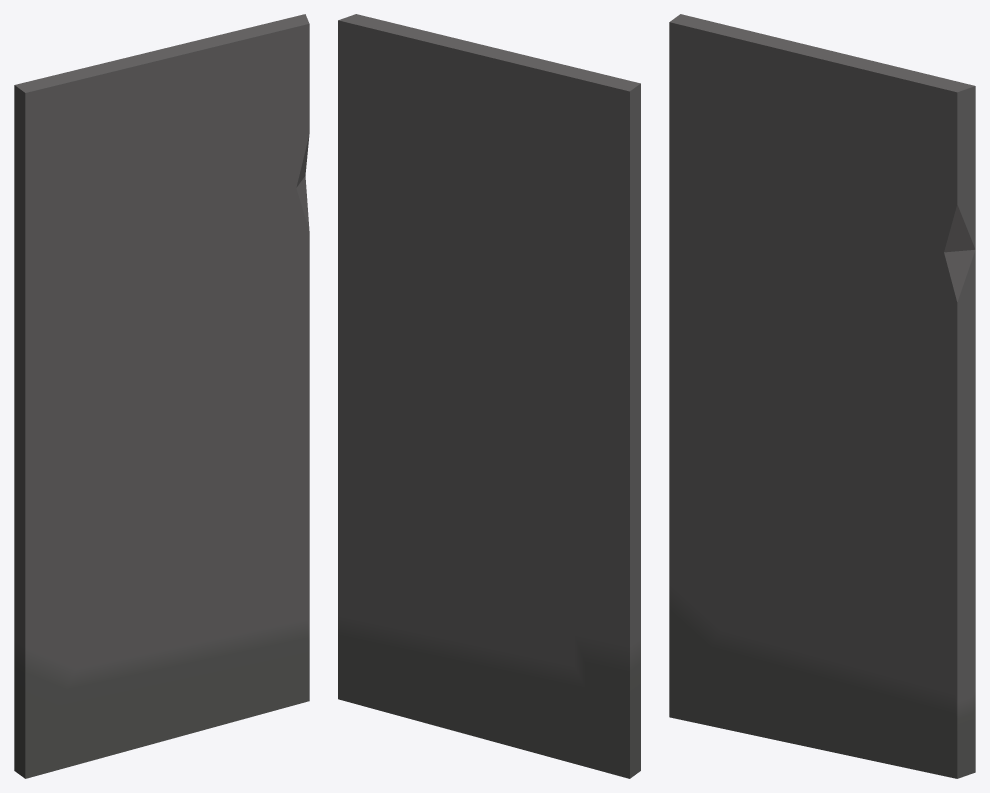
The model's file is SM_Prop_Cabinet_Small_Door_01.fbx.
The picture shows the model from 3 angles, left to right: view 1: azimuth 30°, elevation 25°; view 2: azimuth 150°, elevation 25°; view 3: azimuth 330°, elevation 25°; orthographic projection.
Parts seen in each view (by area): view 1: SM_Prop_Cabinet_Small_Door_01; view 2: SM_Prop_Cabinet_Small_Door_01; view 3: SM_Prop_Cabinet_Small_Door_01.
Boxes of the visible parts, <box> form: SM_Prop_Cabinet_Small_Door_01: <box>14,14,309,778</box>; SM_Prop_Cabinet_Small_Door_01: <box>338,14,640,778</box>; SM_Prop_Cabinet_Small_Door_01: <box>669,14,975,778</box>.
Size of the model in its own units: 49.37 by 111 by 3.23.
